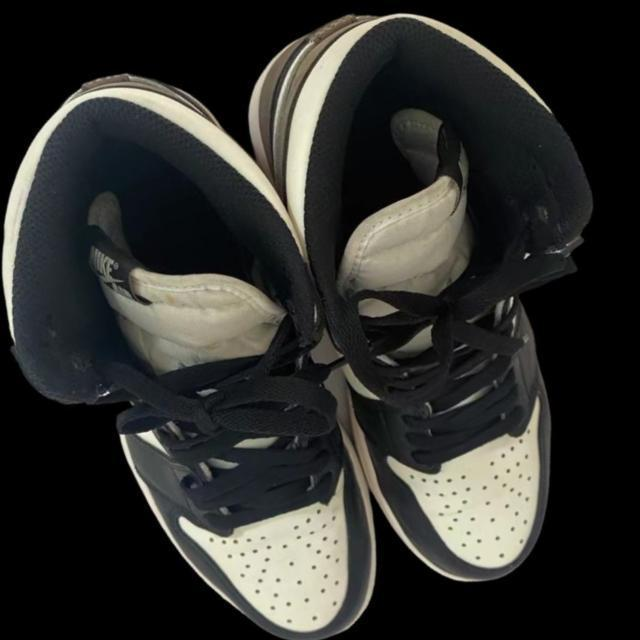nike original jordan 1: (0, 25, 438, 640), (211, 0, 640, 611)
